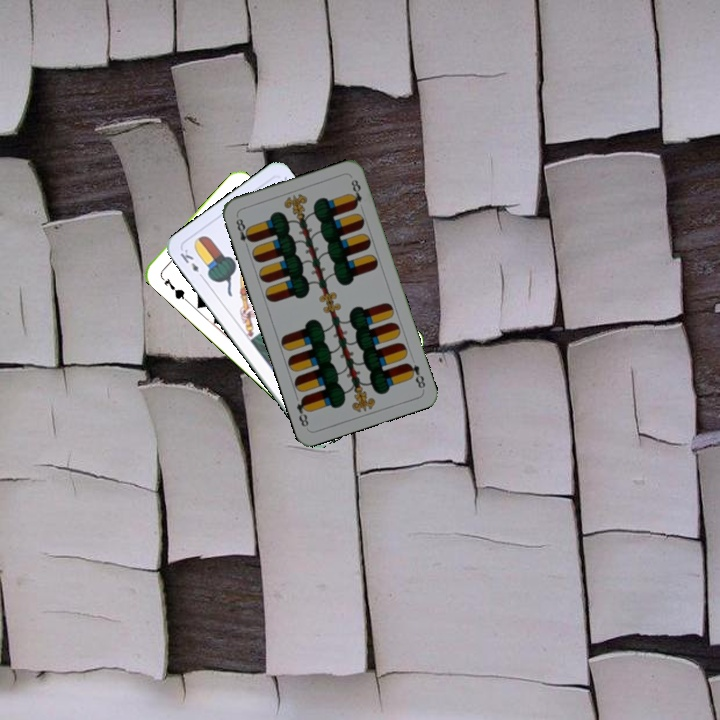E8: (232, 212, 255, 252), (402, 359, 428, 391)
EK: (176, 245, 207, 282)
G7: (156, 271, 189, 303)
